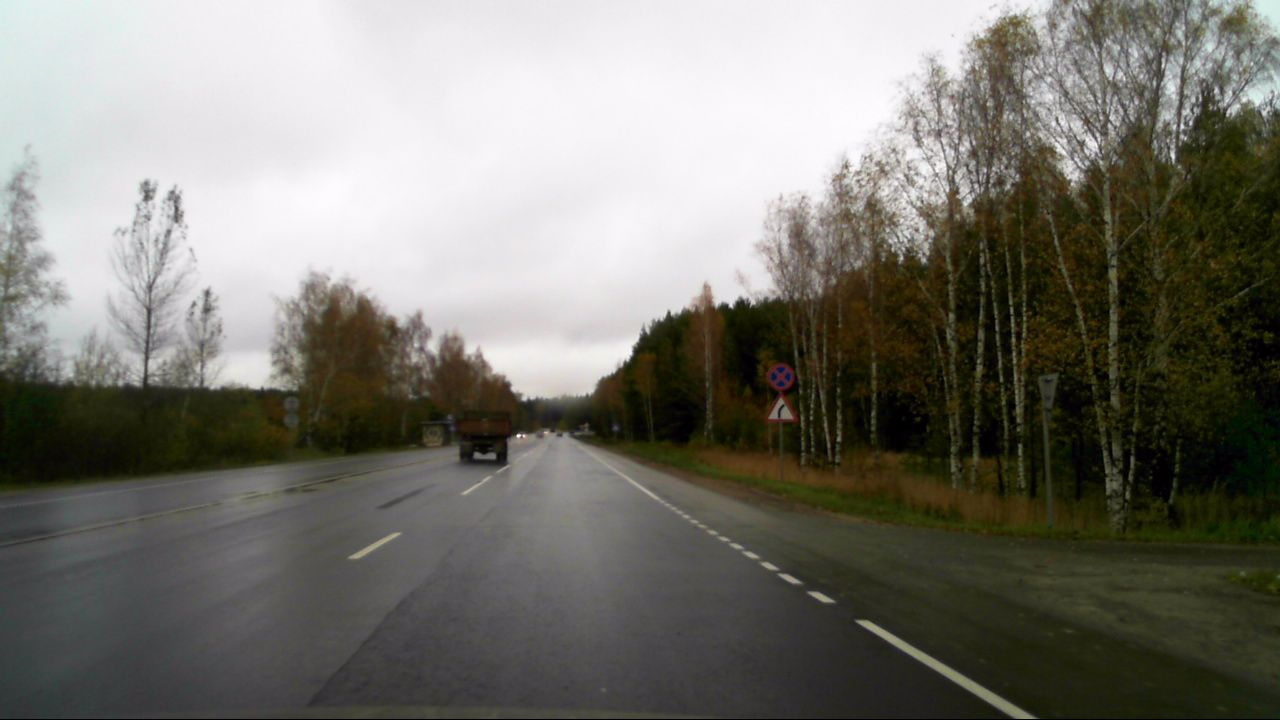No Parking: (764, 359, 796, 391)
